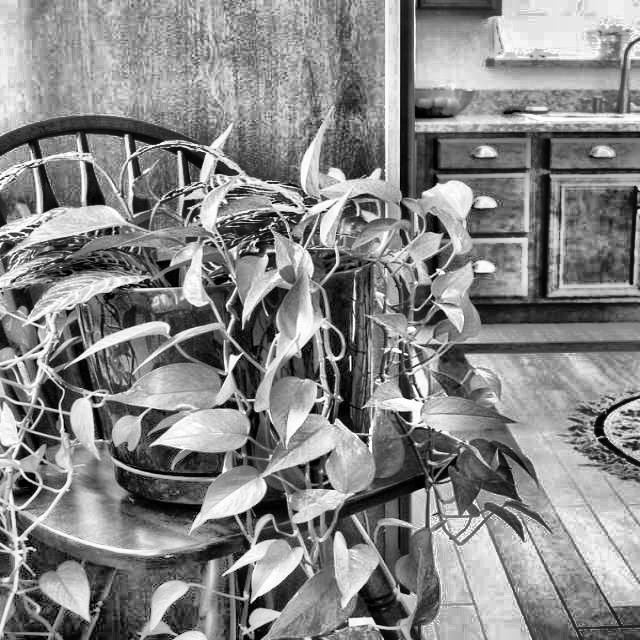plants: (76, 174, 410, 608)
